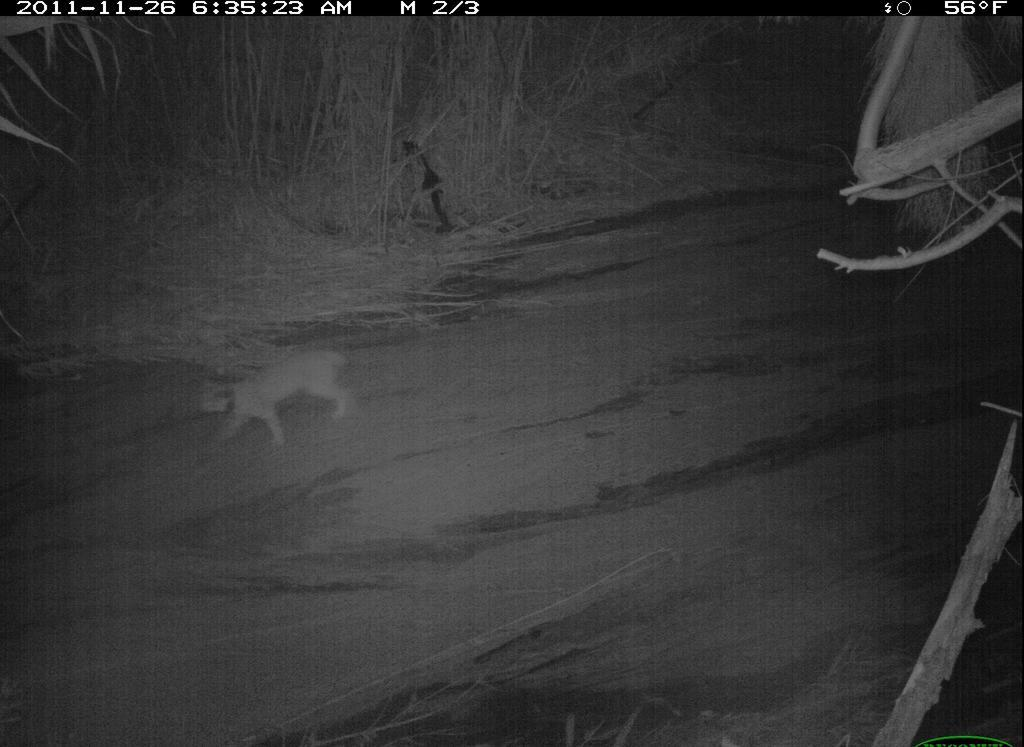bobcat: (191, 341, 370, 457)
